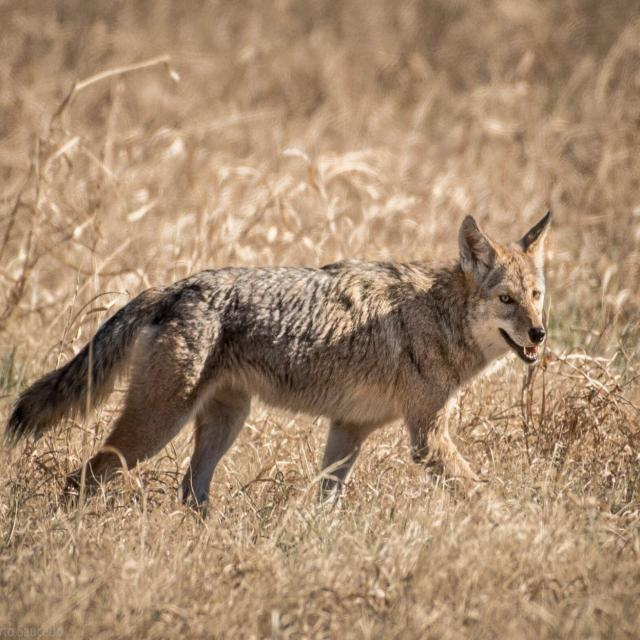coyote: (6, 211, 551, 511)
